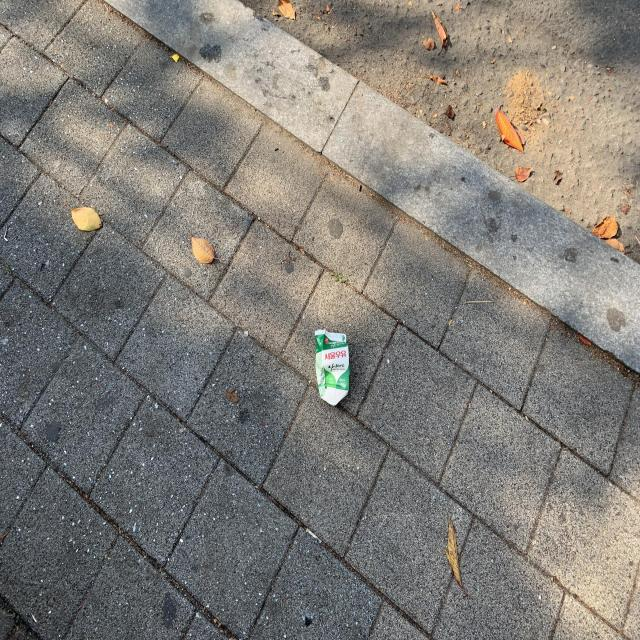paperpack: (314, 329, 350, 406)
